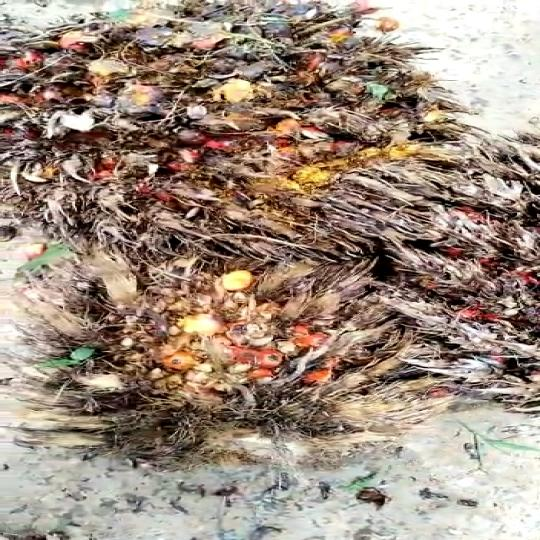terlalu masak: (0, 0, 460, 256), (40, 247, 399, 445)
